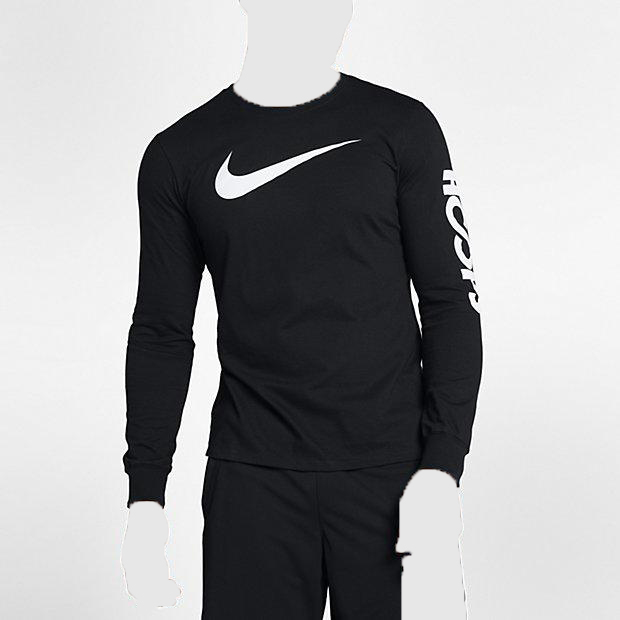teeshirt: (92, 71, 489, 489)
